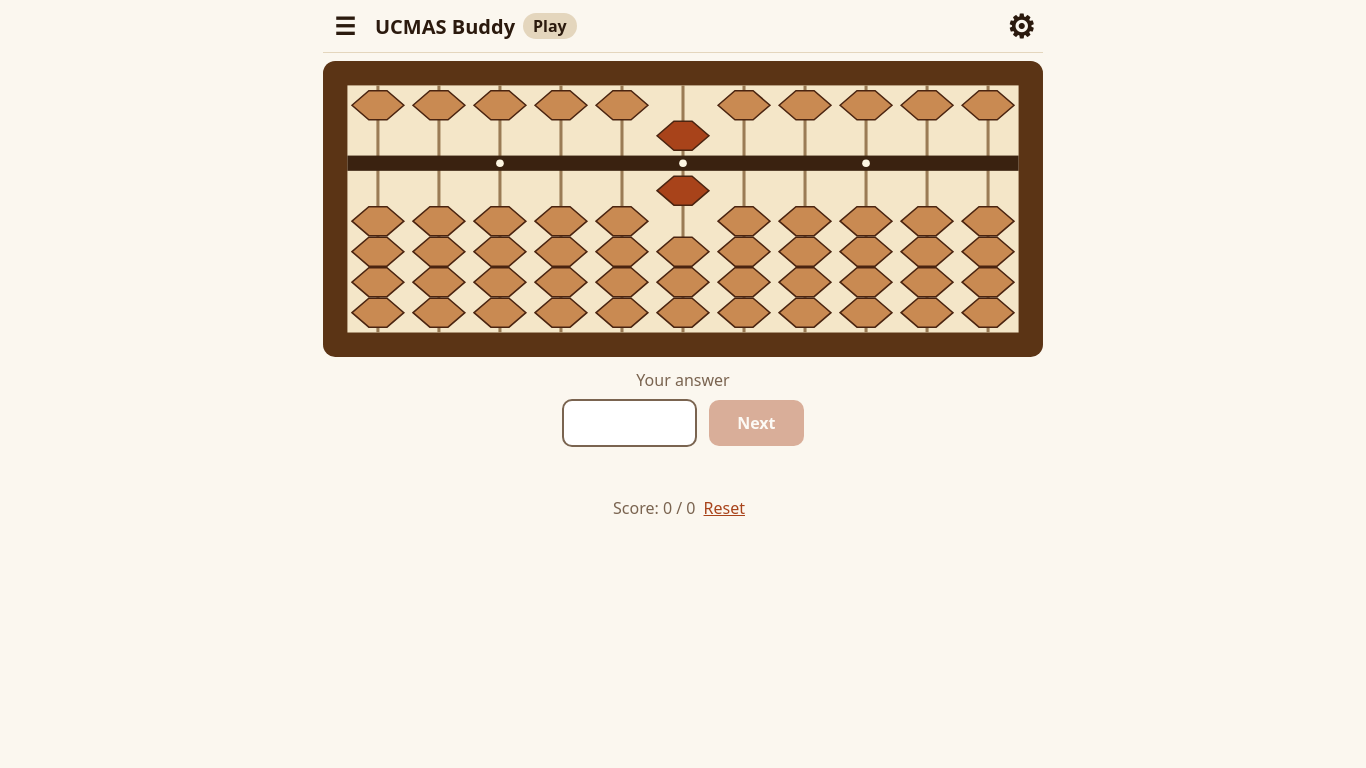
<App> › closes settings with the close button
Click the button named "open settings".
click(1021, 26)  # box [999,4,1043,48]
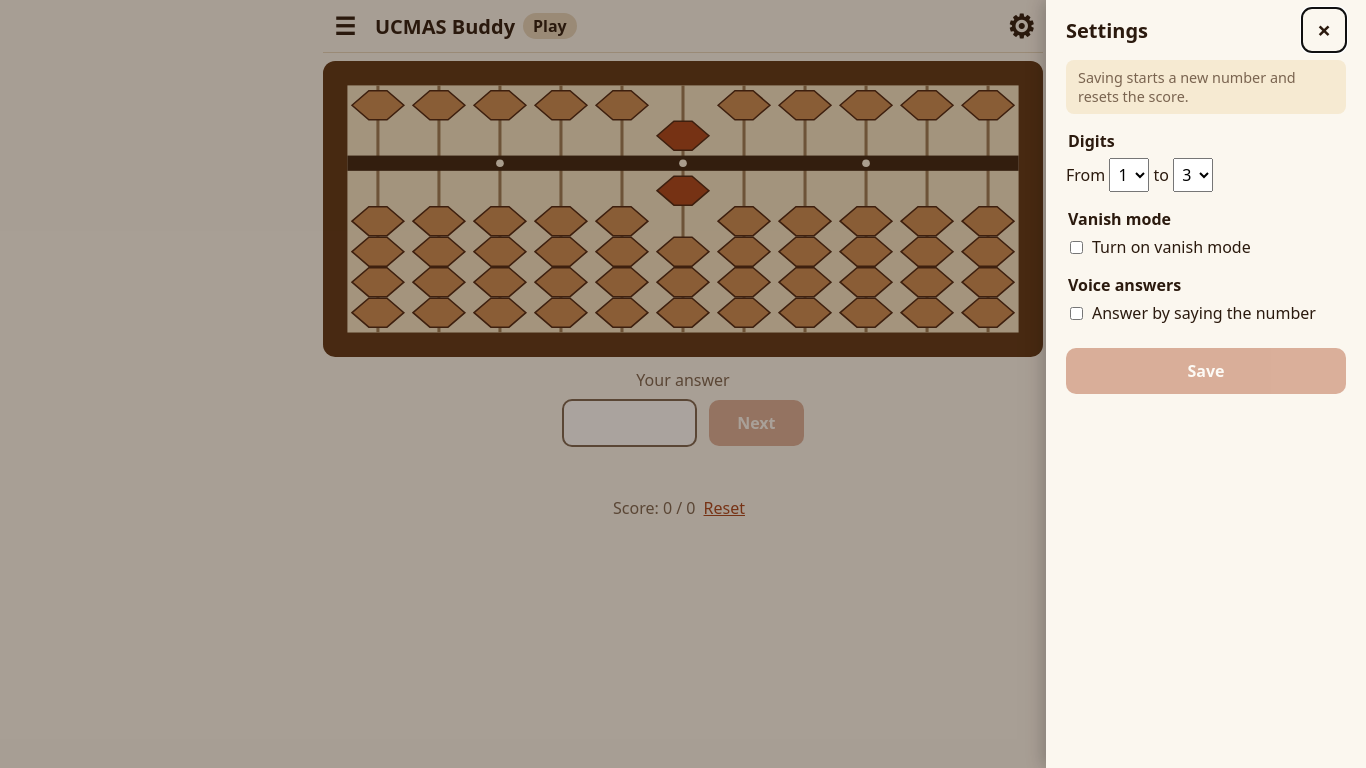
Click the button named "close settings".
click(1324, 30)  # box [1302,8,1346,52]
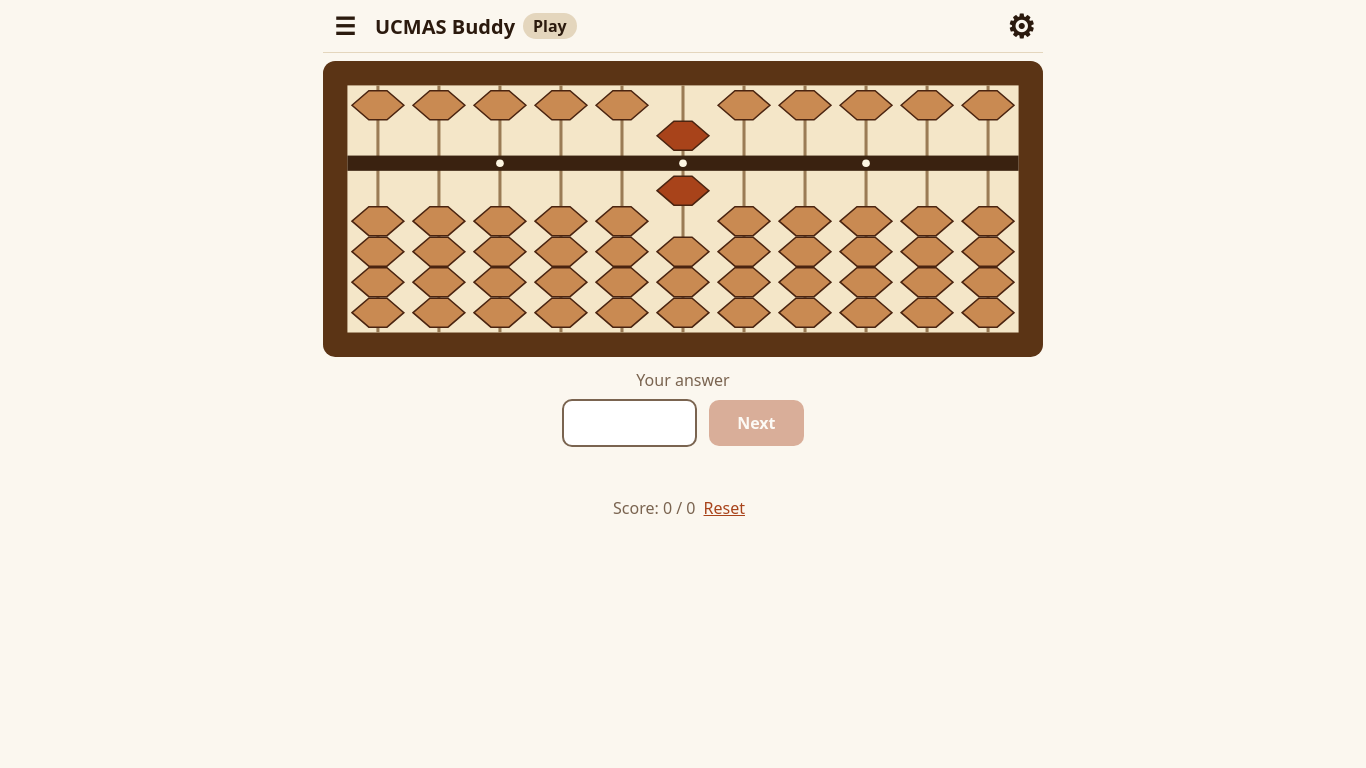
Check: the dialog is gone
